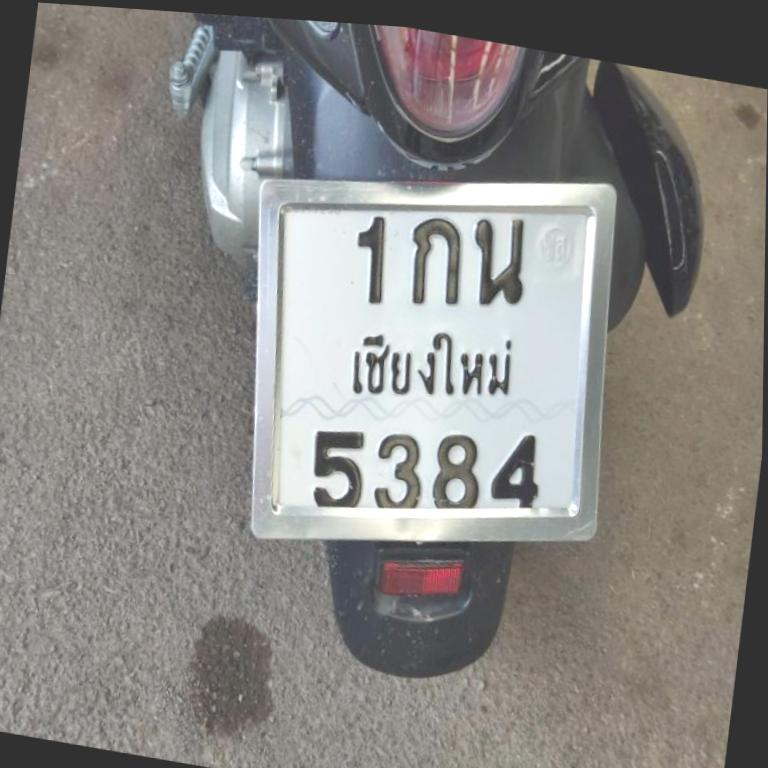license plate: (252, 182, 616, 542)
